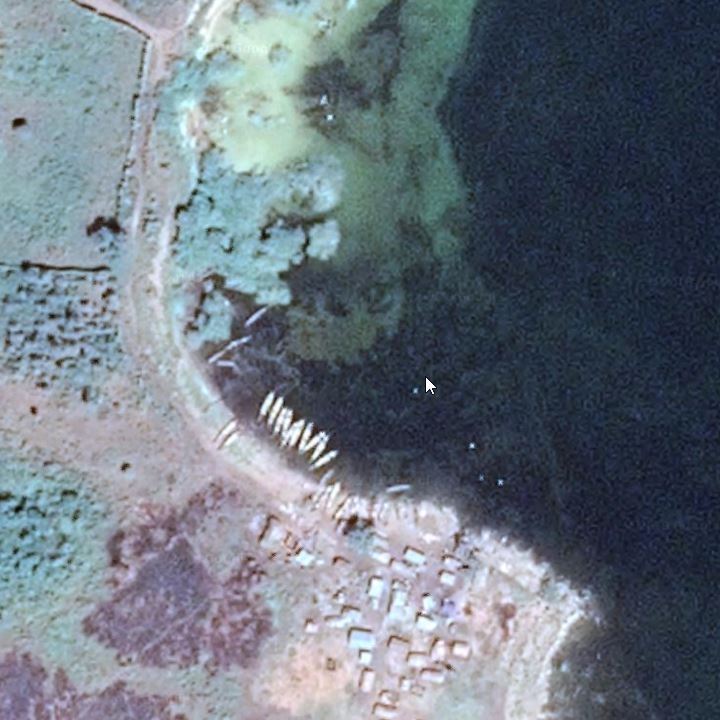boat: (263, 392, 285, 433), (256, 384, 276, 429), (214, 413, 241, 445), (306, 433, 332, 466), (243, 301, 274, 328), (218, 426, 247, 454), (307, 450, 343, 472), (278, 415, 300, 450), (270, 400, 286, 445), (297, 419, 313, 462), (286, 418, 305, 454), (278, 404, 294, 445), (326, 476, 343, 514), (333, 491, 352, 524), (304, 430, 326, 457), (315, 478, 332, 508), (493, 530, 510, 556), (317, 467, 338, 488), (205, 347, 227, 367), (376, 496, 391, 524), (384, 482, 416, 495), (226, 334, 255, 348), (394, 497, 406, 524), (480, 525, 494, 548), (212, 360, 240, 370)
